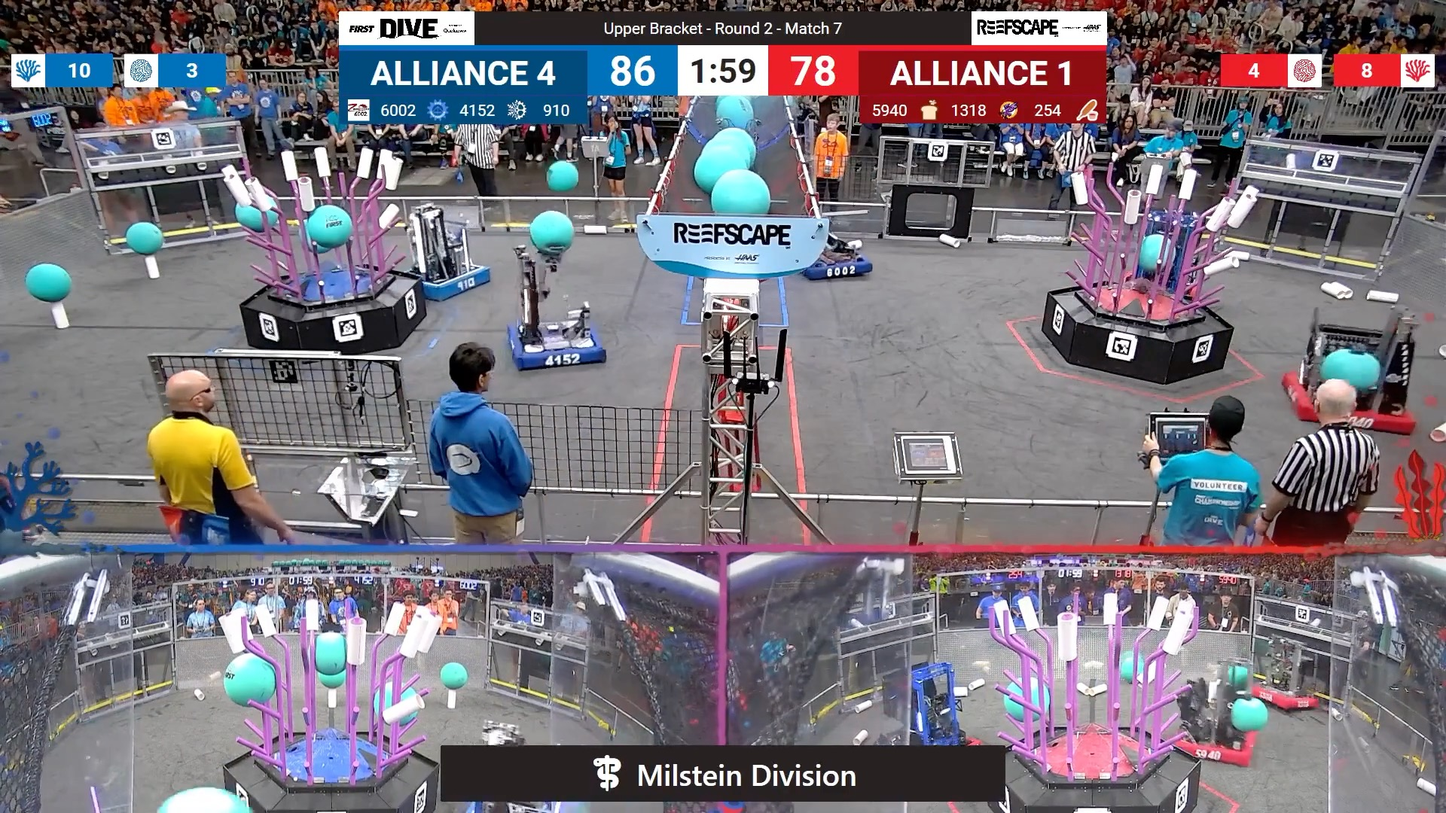bumpers: (1280, 361, 1424, 433), (499, 318, 611, 376), (1162, 726, 1261, 769), (398, 259, 497, 301), (792, 250, 879, 283), (1246, 683, 1324, 715)
